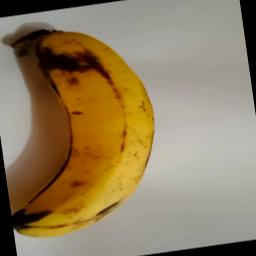Banana Unripe: (0, 11, 171, 241)
